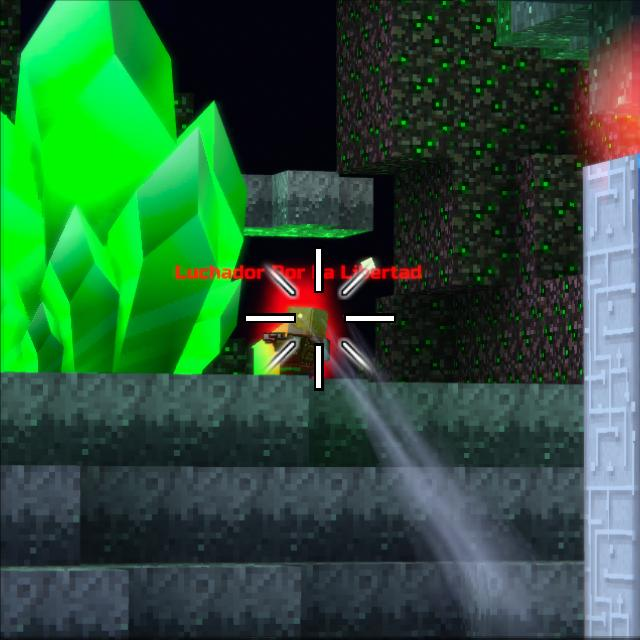Enemy: (260, 305, 329, 375)
